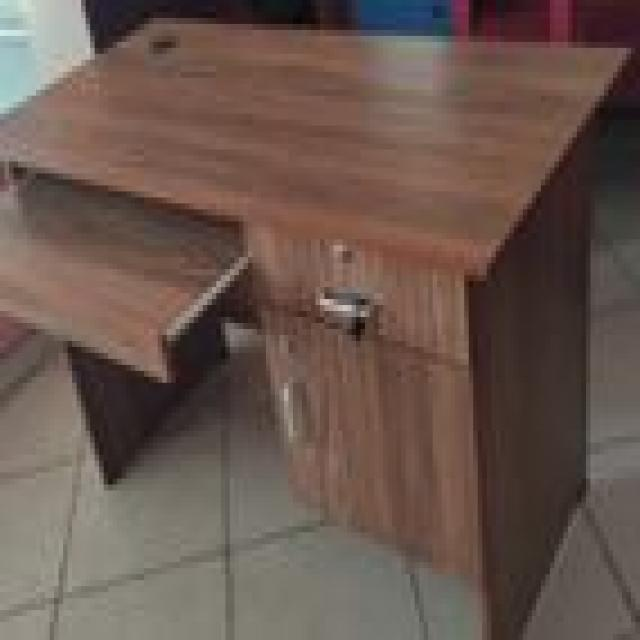others: (4, 12, 626, 556)
